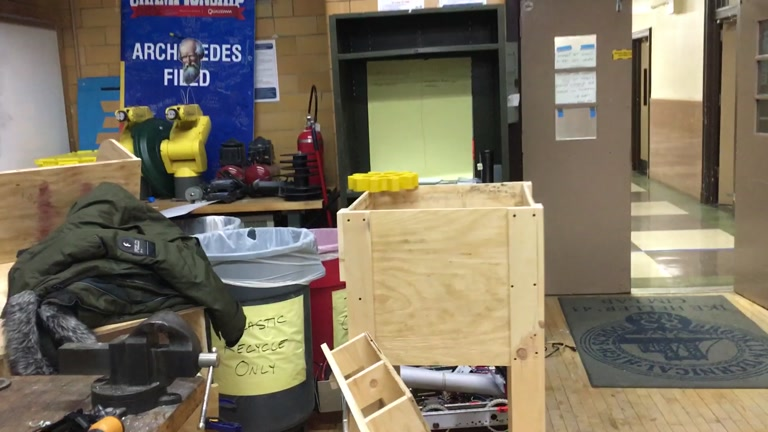gear: (347, 169, 418, 195)
